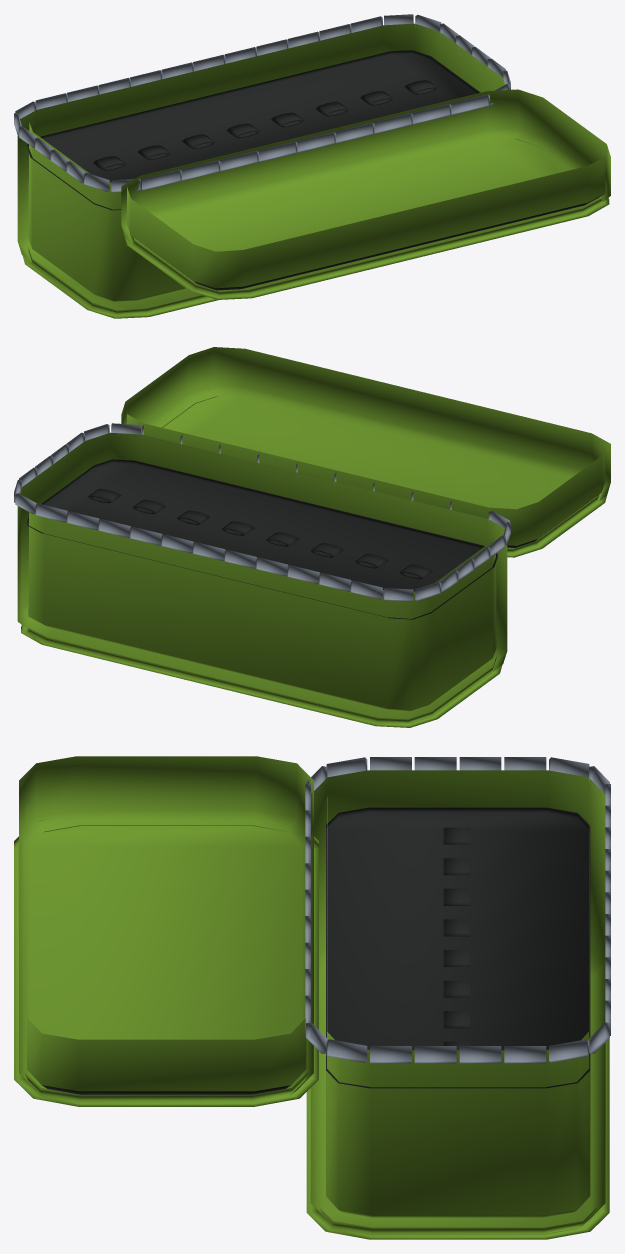
Rendered from makeup_container_bag_open.glb.
The picture shows the model from 3 angles, top to bottom: view 1: azimuth 30°, elevation 25°; view 2: azimuth 150°, elevation 25°; view 3: azimuth 270°, elevation 25°; orthographic projection. The views are drawn at different scales.
Visible parts, largest first — view 1: container_bag_open.001; view 2: container_bag_open.001; view 3: container_bag_open.001.
Boxes of the visible parts, box(x1,y1,x2,y2) form: container_bag_open.001: box(14, 14, 610, 318); container_bag_open.001: box(14, 347, 610, 727); container_bag_open.001: box(14, 756, 610, 1239).
Bounding box in the file's own units: 22.7 × 7.2 × 19.64.
1 material, 1 textured.
